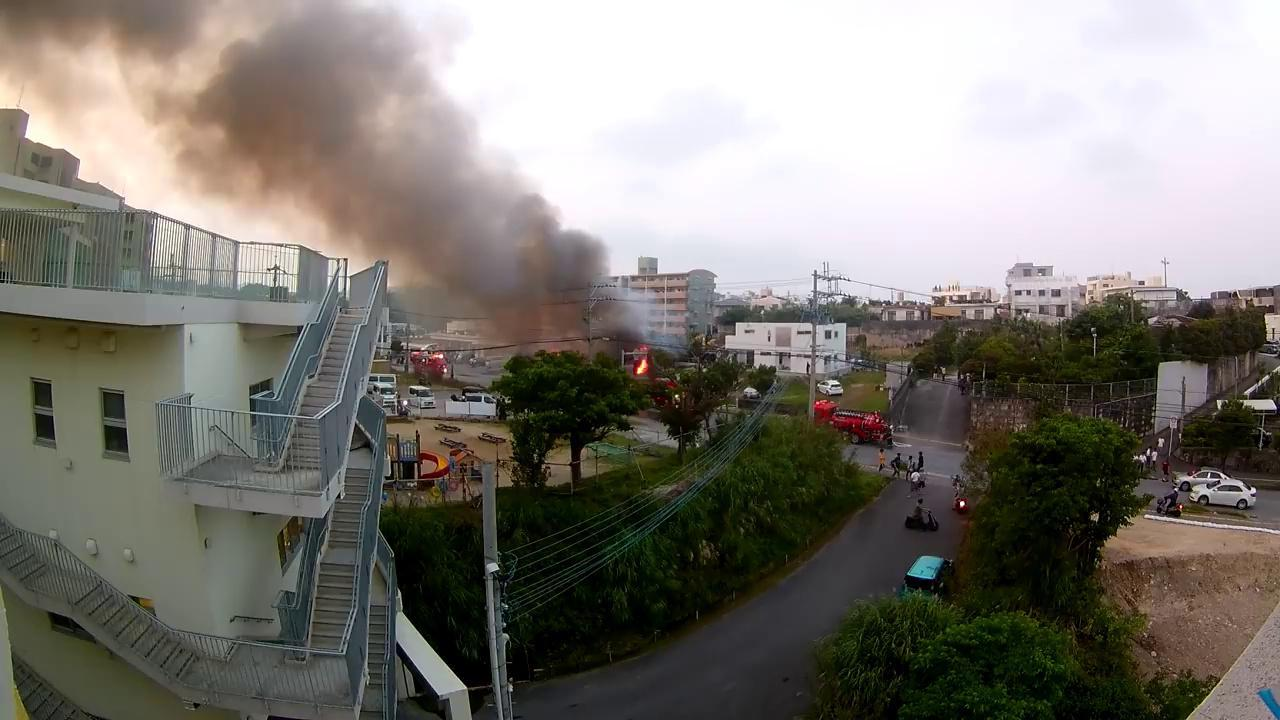Fire: (634, 360, 651, 374)
